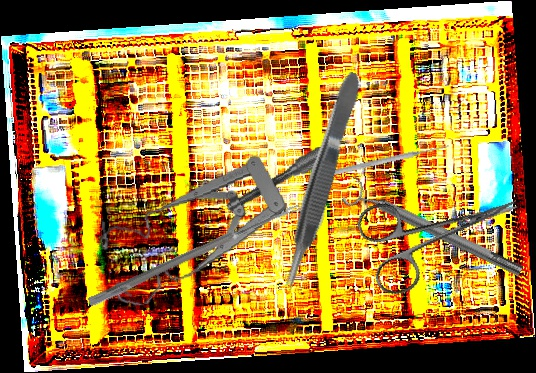Fixation Ring: (340, 174, 528, 287)
Iris Scissors: (353, 162, 533, 301)
Pusher: (317, 141, 452, 181)
Speculum: (92, 146, 343, 309)
Surgical Spoon: (87, 200, 302, 309)
Tissue Forceps: (272, 69, 370, 295)
